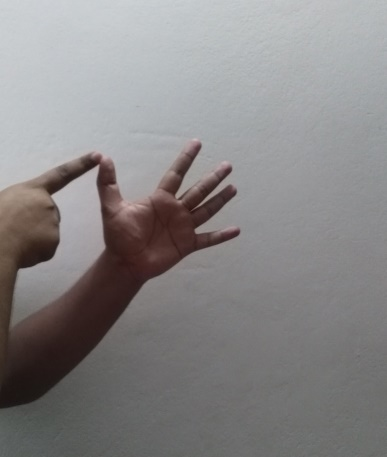a: (1, 133, 242, 299)
